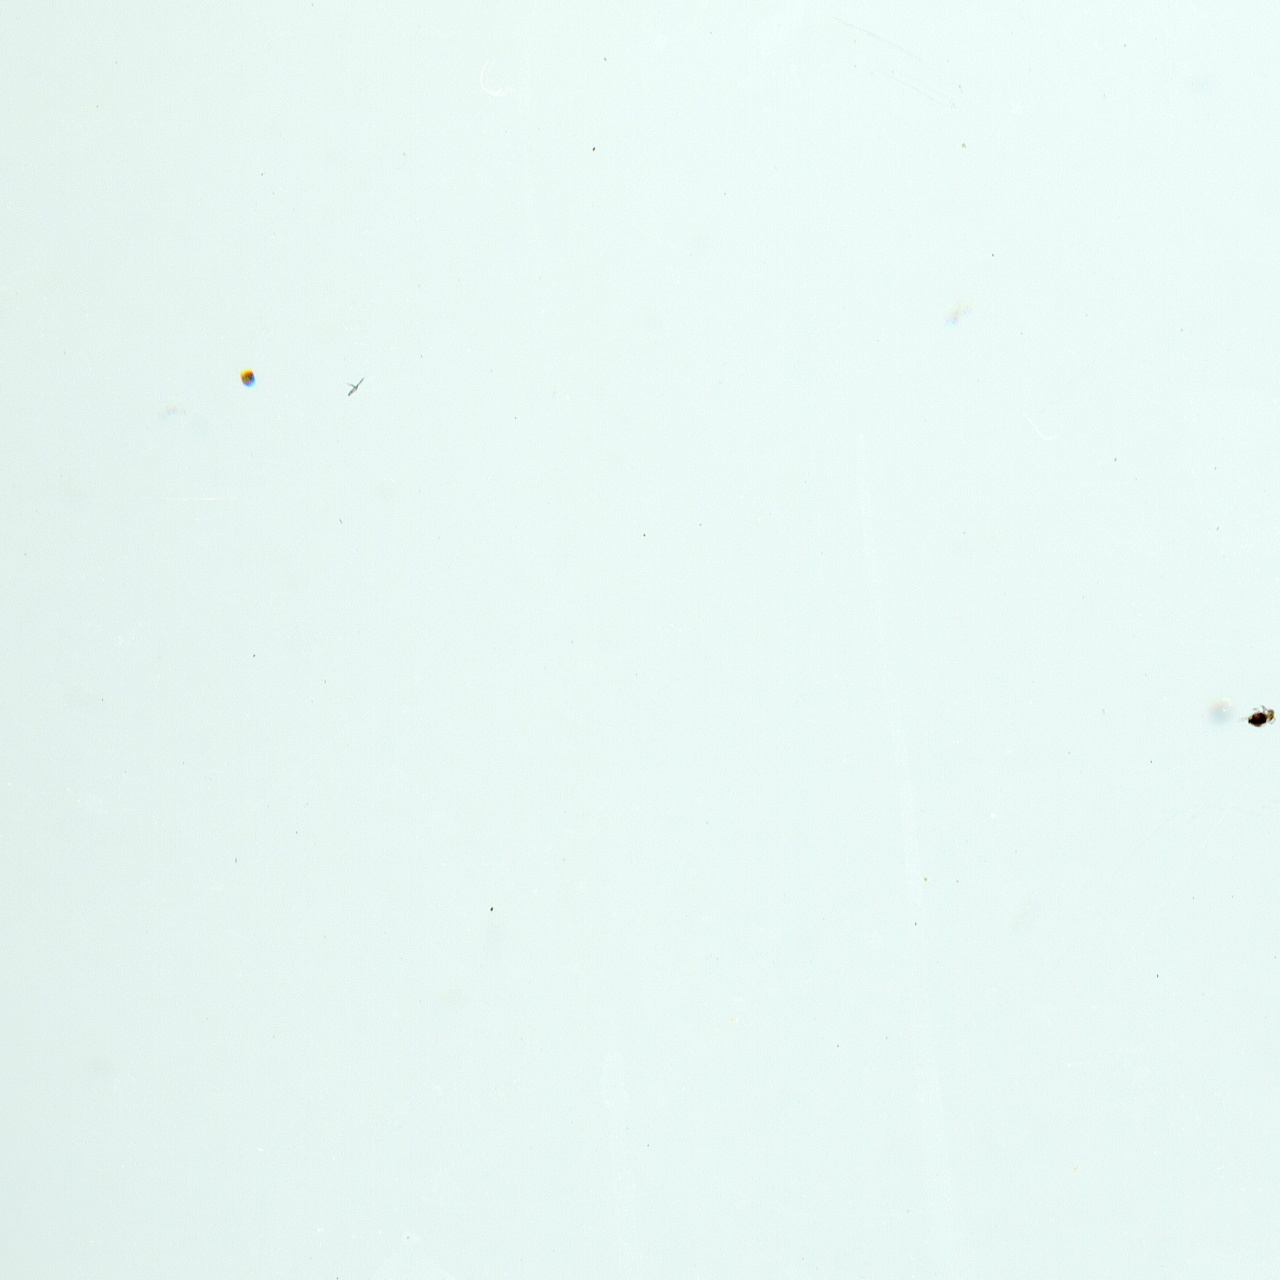arthropod: (1234, 700, 1280, 735)
